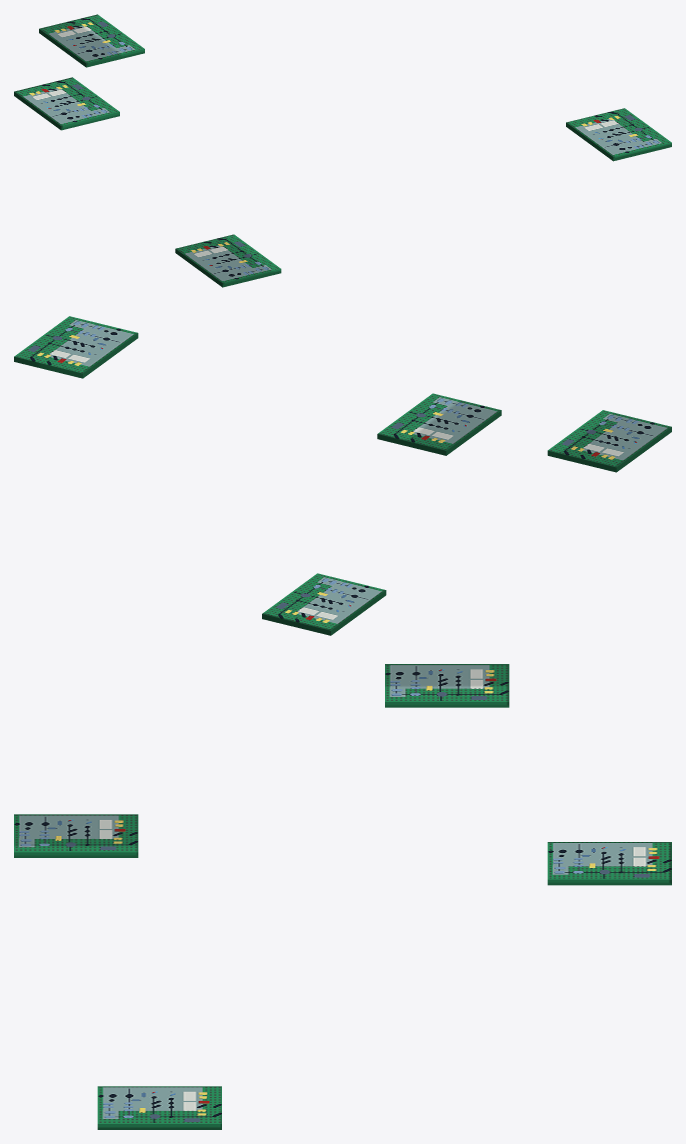
The model's file is Tx_prop_circuit boards_7.fbx.
The picture shows the model from 3 angles, top to bottom: view 1: azimuth 30°, elevation 25°; view 2: azimuth 150°, elevation 25°; view 3: azimuth 270°, elevation 25°; orthographic projection. The views are drawn at different scales.
Parts seen in each view (by area): view 1: Tx_prop_circuit_boards_9; view 2: Tx_prop_circuit_boards_9; view 3: Tx_prop_circuit_boards_9.
Boxes of the visible parts, <box> form: Tx_prop_circuit_boards_9: <box>14,14,671,287</box>; Tx_prop_circuit_boards_9: <box>14,316,671,635</box>; Tx_prop_circuit_boards_9: <box>14,664,671,1129</box>.
Size of the model in its own units: 13.74 by 3.31 by 12.34.
Materials: 1 (1 with a texture image).
